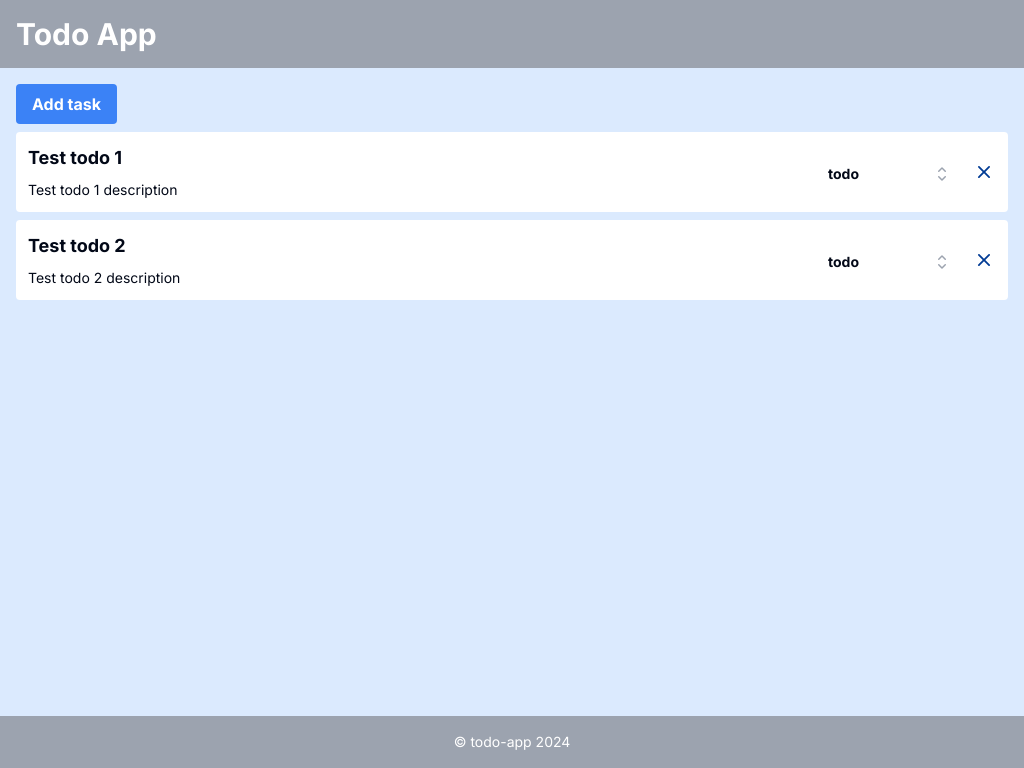
Update todo › Should update todo status
The width and height of the screenshot is (1024, 768).
Expected: the number of list items is 2, 16,132 -> 1008,212; 16,220 -> 1008,300
Click the element with test id "status-dropdown" showing "todo" at (888, 172), box 816,152 -> 960,192
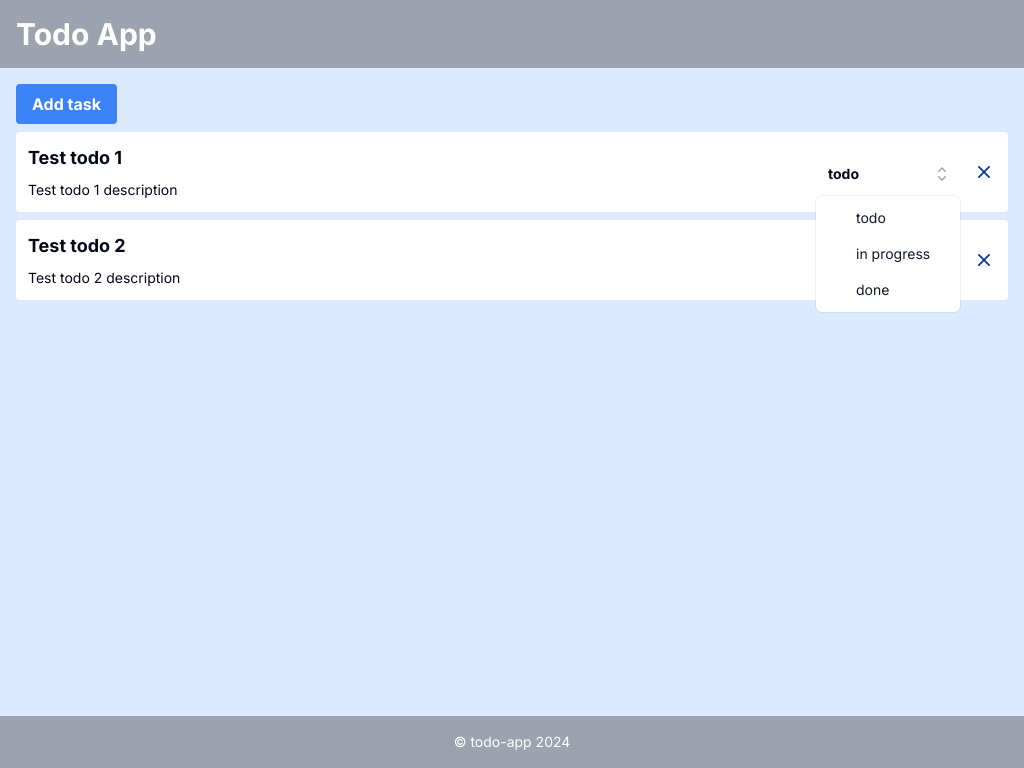
Expected: the list with test id "status-list" is shown, 816,196 -> 960,312
Click the option with test id "status-inprogress" at (893, 254), box 856,245 -> 930,262
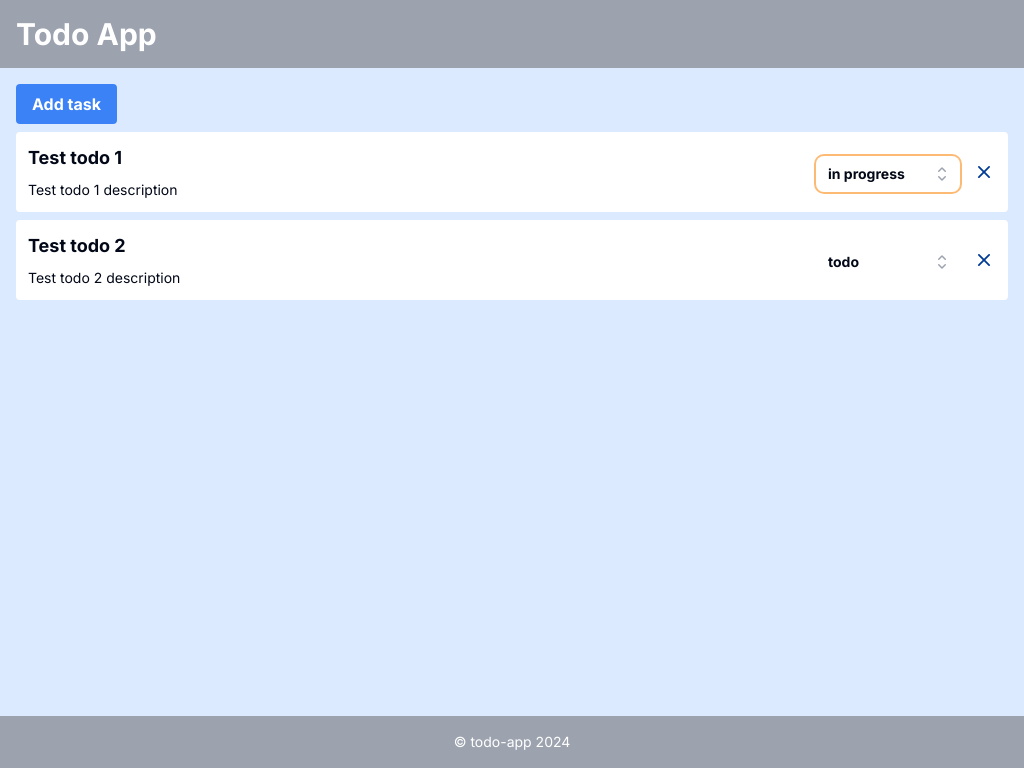
Expected: the text with test id "todo-status" reads "in progress", 828,165 -> 905,182
